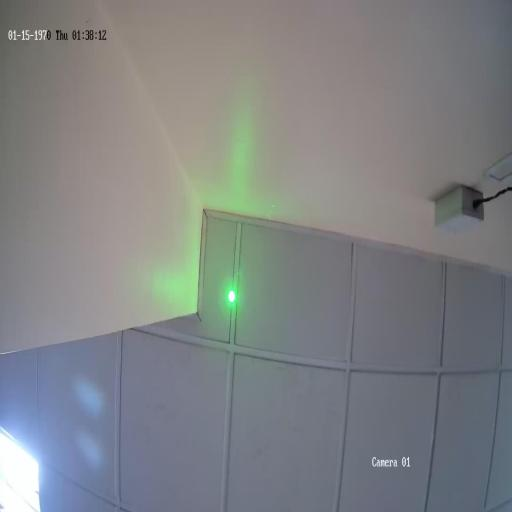laser: (220, 276, 242, 316)
